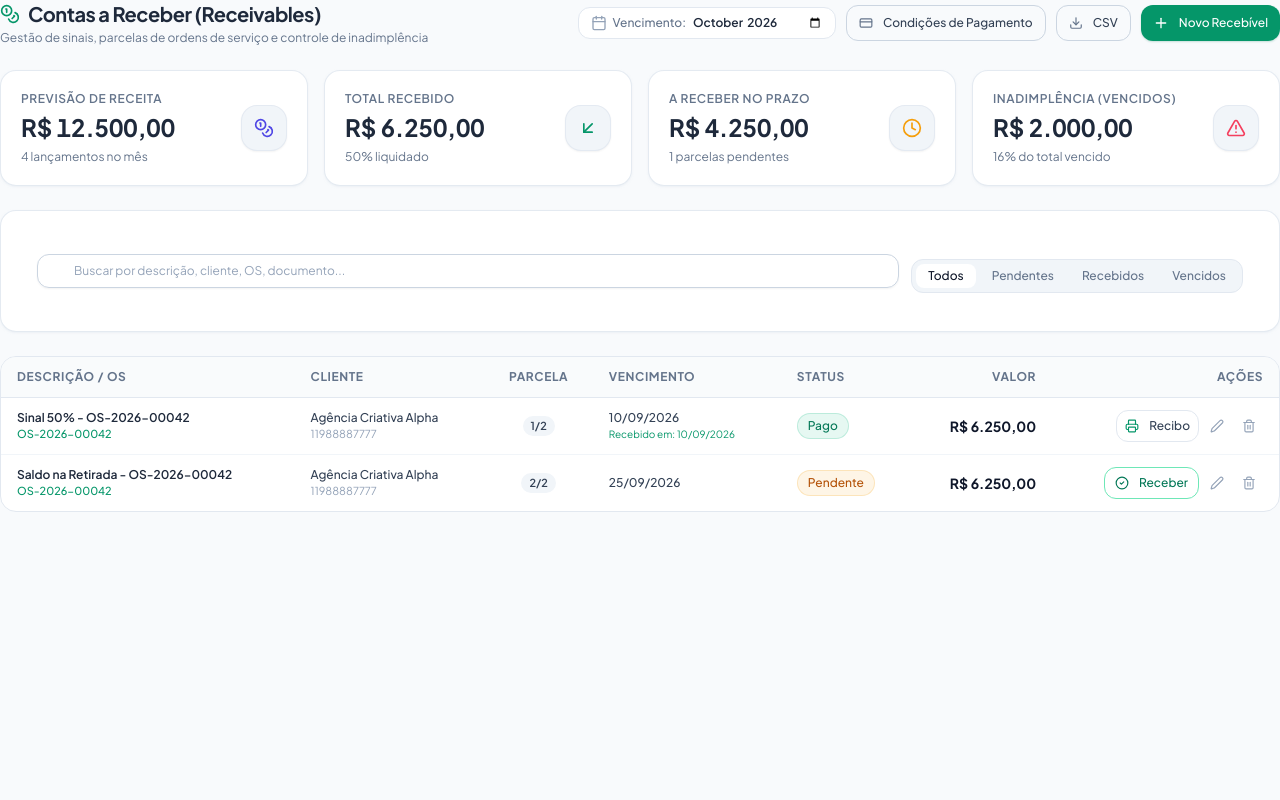
Test: ReceivablesPage › opens receipt modal when clicking on "Recibo"
The width and height of the screenshot is (1280, 800).
Click the button "Recibo" at (1158, 426), box [1116,410,1199,442]
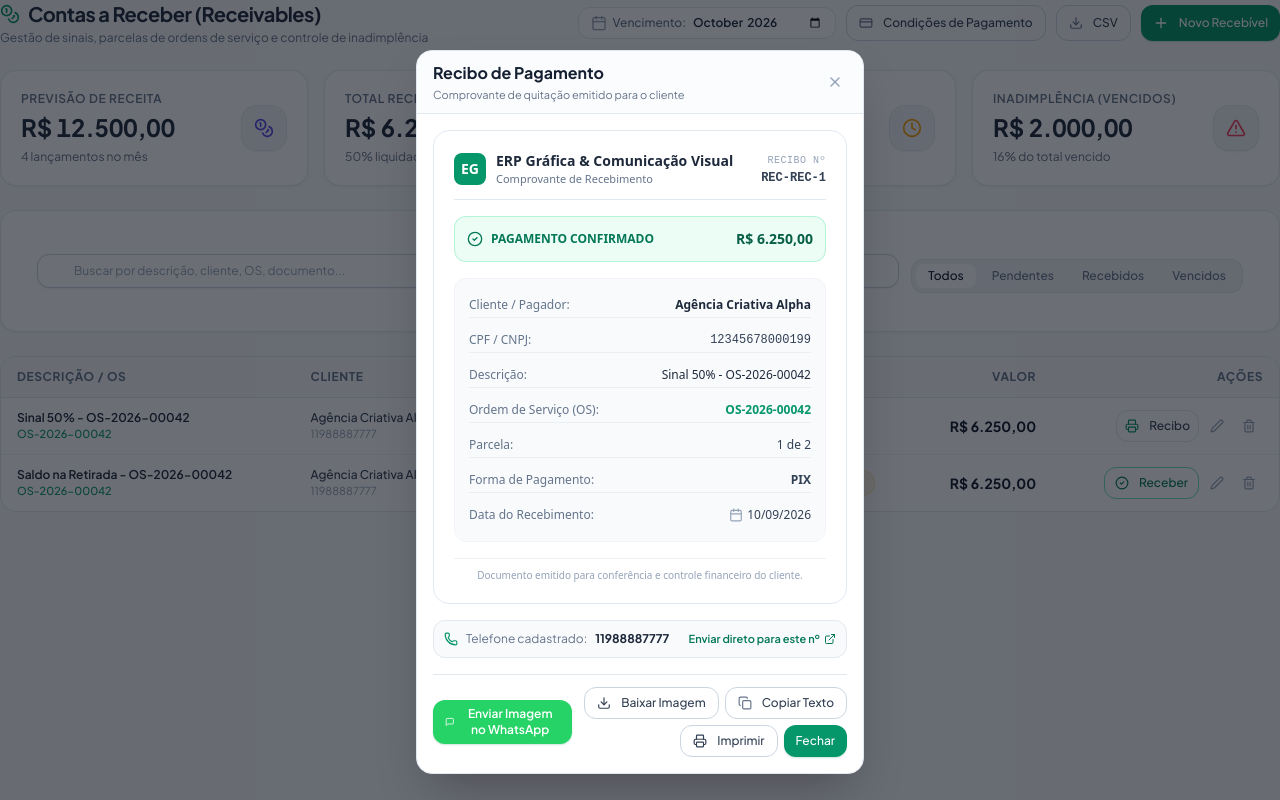
Expected: the heading "Recibo de Pagamento" is shown, [433,62,604,83]
Expected: the text "PAGAMENTO CONFIRMADO" is shown, [491,231,654,247]
